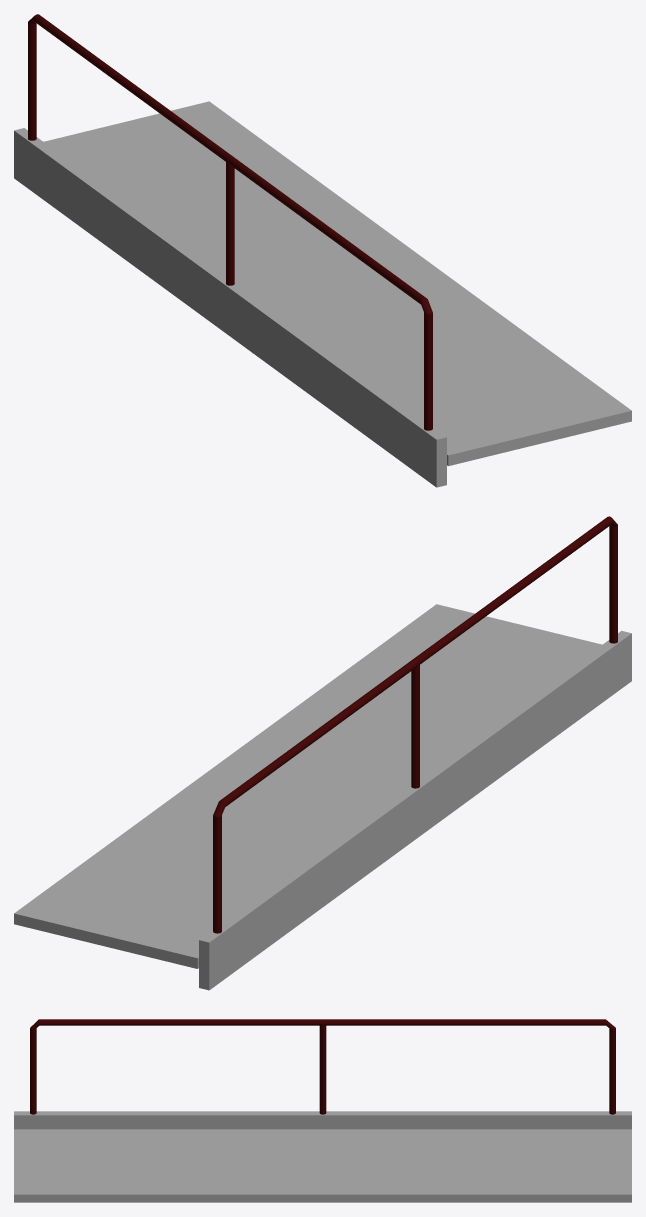
Rendered from Bridge2.fbx.
3 views of the same model, one above another, from view 1: azimuth 30°, elevation 25°; view 2: azimuth 150°, elevation 25°; view 3: azimuth 270°, elevation 25° (orthographic). The views are drawn at different scales.
Visible parts, largest first — view 1: pCube24, pCube22, pCylinder18; view 2: pCube24, pCube22, pCylinder18; view 3: pCube24, pCube22, pCylinder18.
Boxes of the visible parts, x1=… form: pCube24: x1=43, y1=101, x2=631, y2=466; pCube22: x1=14, y1=128, x2=446, y2=487; pCylinder18: x1=28, y1=14, x2=432, y2=430; pCube24: x1=14, y1=604, x2=601, y2=968; pCube22: x1=199, y1=630, x2=631, y2=990; pCylinder18: x1=213, y1=516, x2=617, y2=933; pCube24: x1=14, y1=1129, x2=631, y2=1202; pCube22: x1=14, y1=1111, x2=631, y2=1129; pCylinder18: x1=30, y1=1019, x2=615, y2=1114.
Size of the model in its own units: 4.27 by 3.67 by 16.
